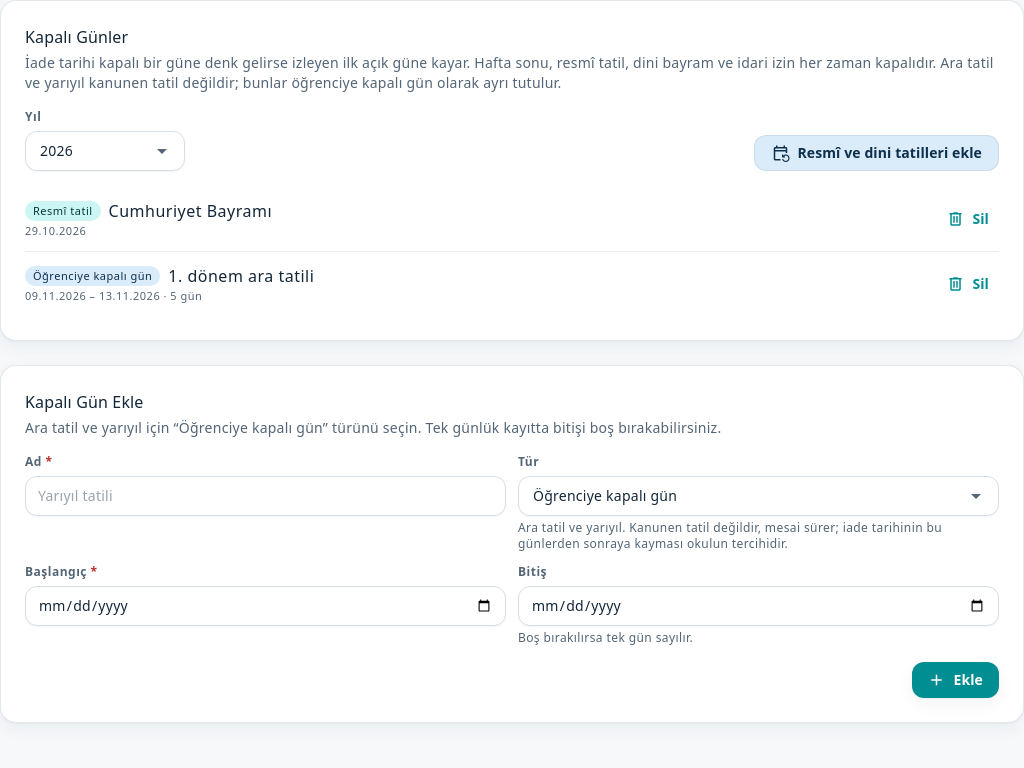
Test: KapaliGunlerPaneli — resmî ve dini tatilleri ekle › ikinci tohumlamada kopya olmadığını söyler
Expected: the text "Cumhuriyet Bayramı" is shown, top-left (109, 200), bottom-right (272, 222)
Click the button "Resmî ve dini tatilleri ekle" at (877, 153), box top-left (754, 135), bottom-right (999, 171)
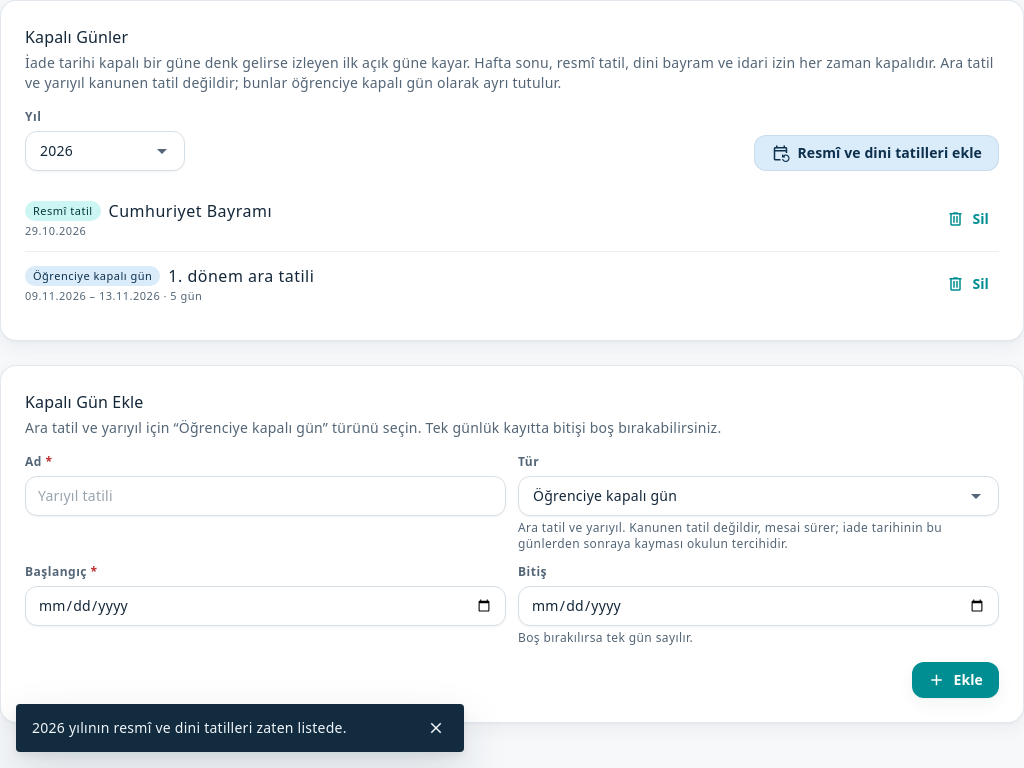
Now the text "2026 yılının resmî ve dini tatilleri zaten listede." is shown, box top-left (32, 718), bottom-right (347, 737)
